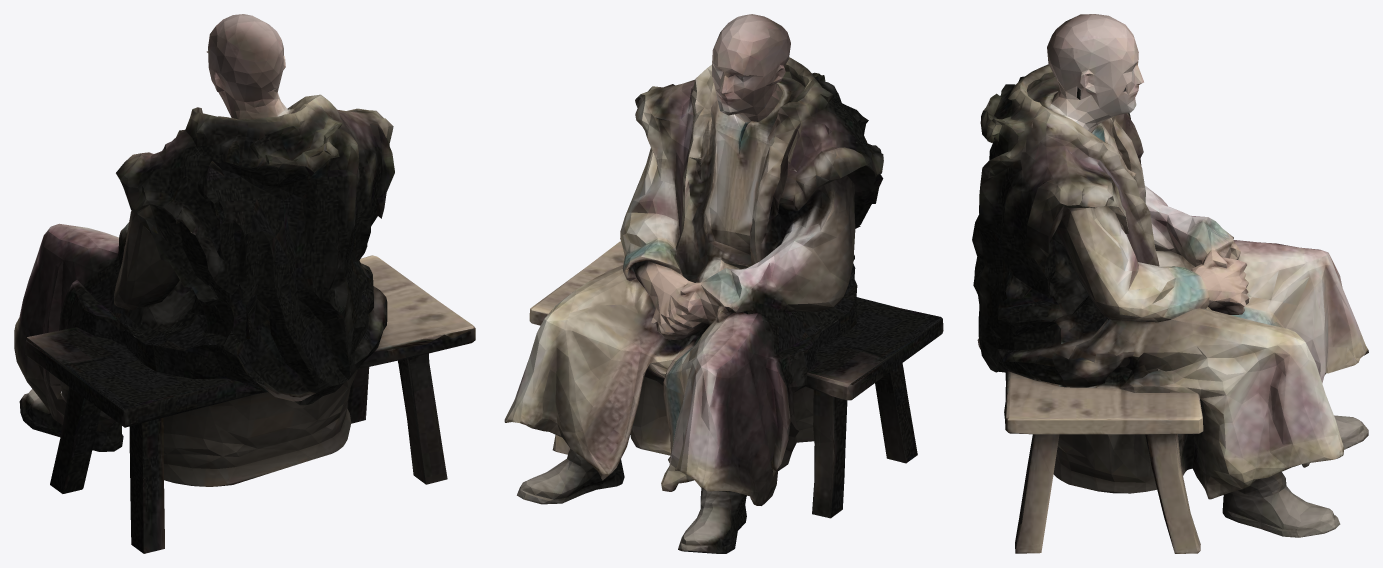
Rendered from council_chamberlain.glb.
3 renders of one model, left to right at view 1: azimuth 30°, elevation 25°; view 2: azimuth 150°, elevation 25°; view 3: azimuth 270°, elevation 25°, orthographic. The views are drawn at different scales.
Visible parts, largest first — view 1: geometry_0; view 2: geometry_0; view 3: geometry_0.
Part boxes in pixels (x1,y1,x2,y2): geometry_0: (14, 14, 475, 553); geometry_0: (504, 14, 943, 553); geometry_0: (972, 14, 1368, 553).
Bounding box in the file's own units: 1.02 × 1.3 × 1.02.
1 material, 1 textured.
